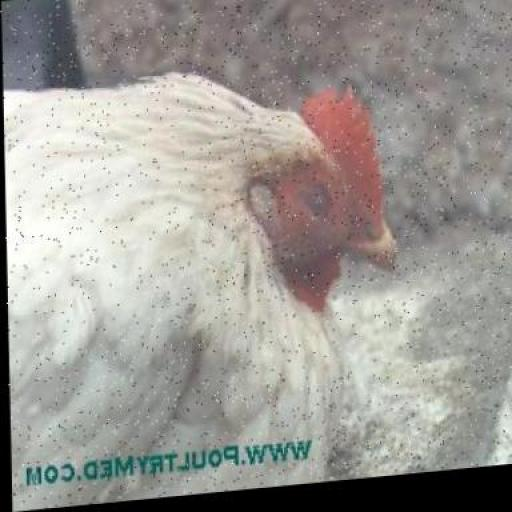disease: (265, 138, 384, 271)
